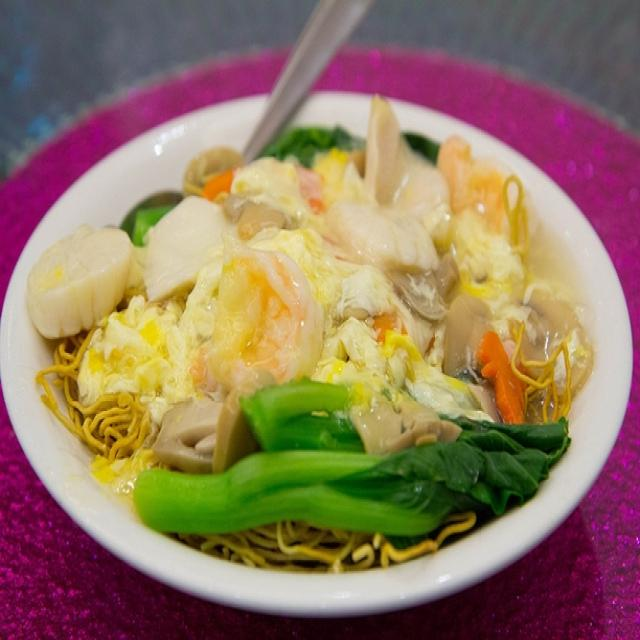面条主食: (16, 97, 617, 599)
